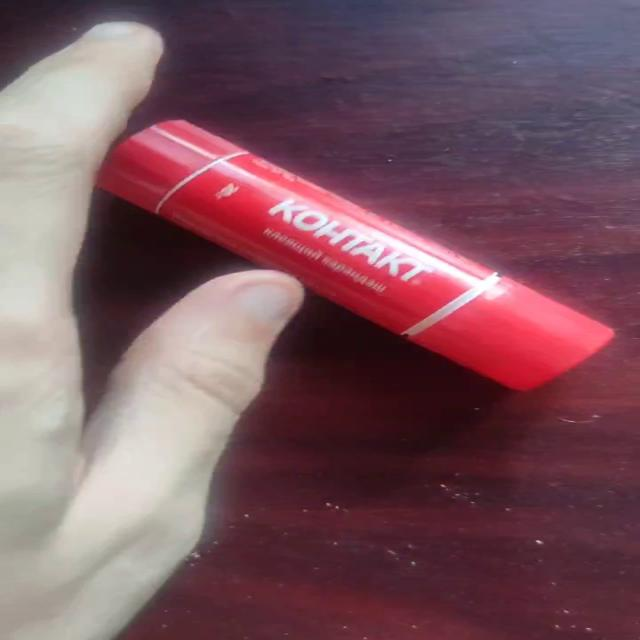glue: (94, 118, 616, 392)
